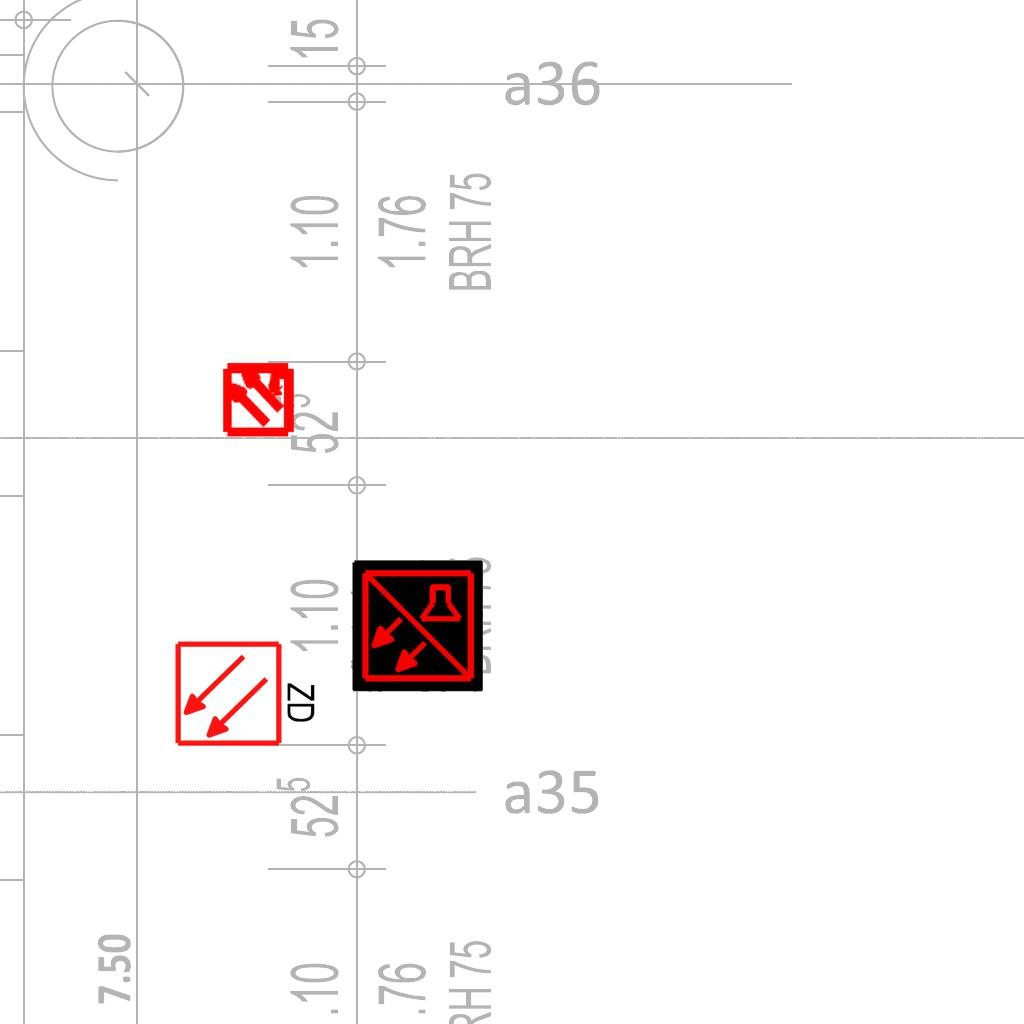OKW_Multisensormelder_(Kombination_optischer_Rauch-Kahlenmonoxid_Waerme-Melder): (351, 560, 483, 692)
OT_Multisensormelder_(Kombination_RMO_WMD): (202, 341, 315, 454)
ZD_Melder_in_Zwischendecke_mit_Revisionsoeffnung_mind_40_x_40_cm: (173, 635, 322, 749)
